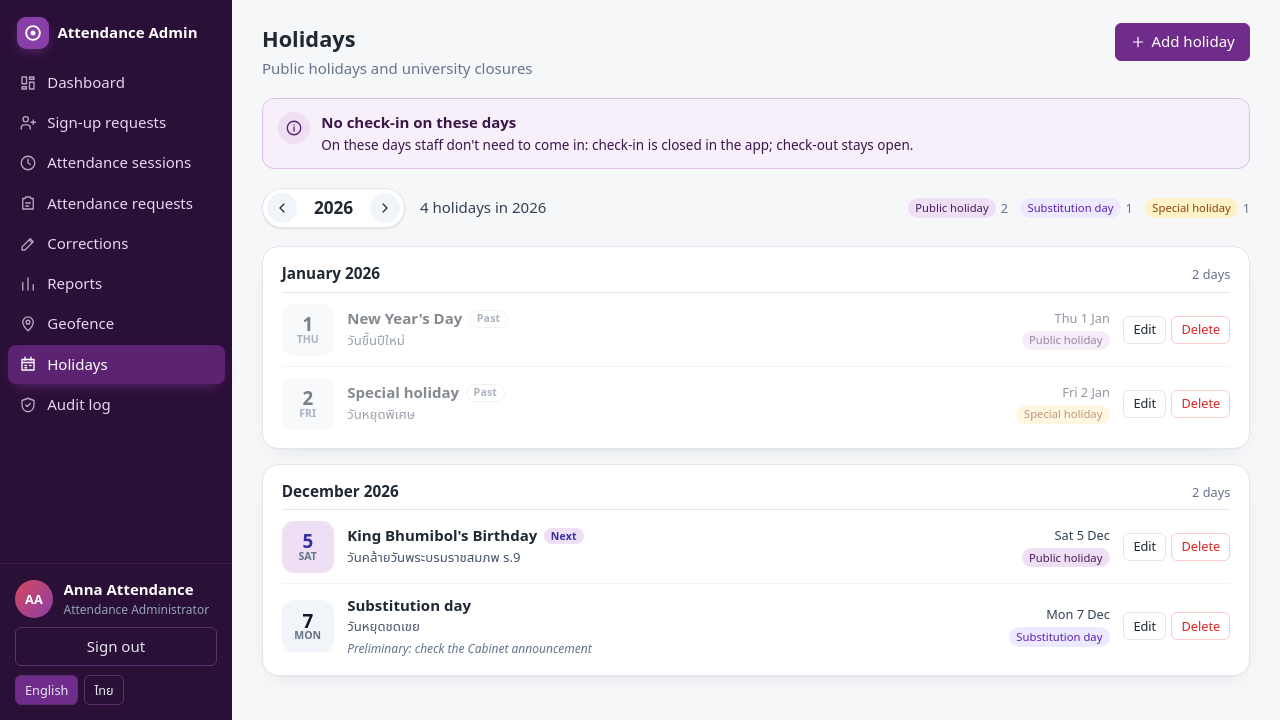
Test: Holidays › edits a holiday with the same dialog
Click the button with aria-label "Edit Substitution day" at [1145, 626], box left=1123, top=612, right=1166, bottom=640
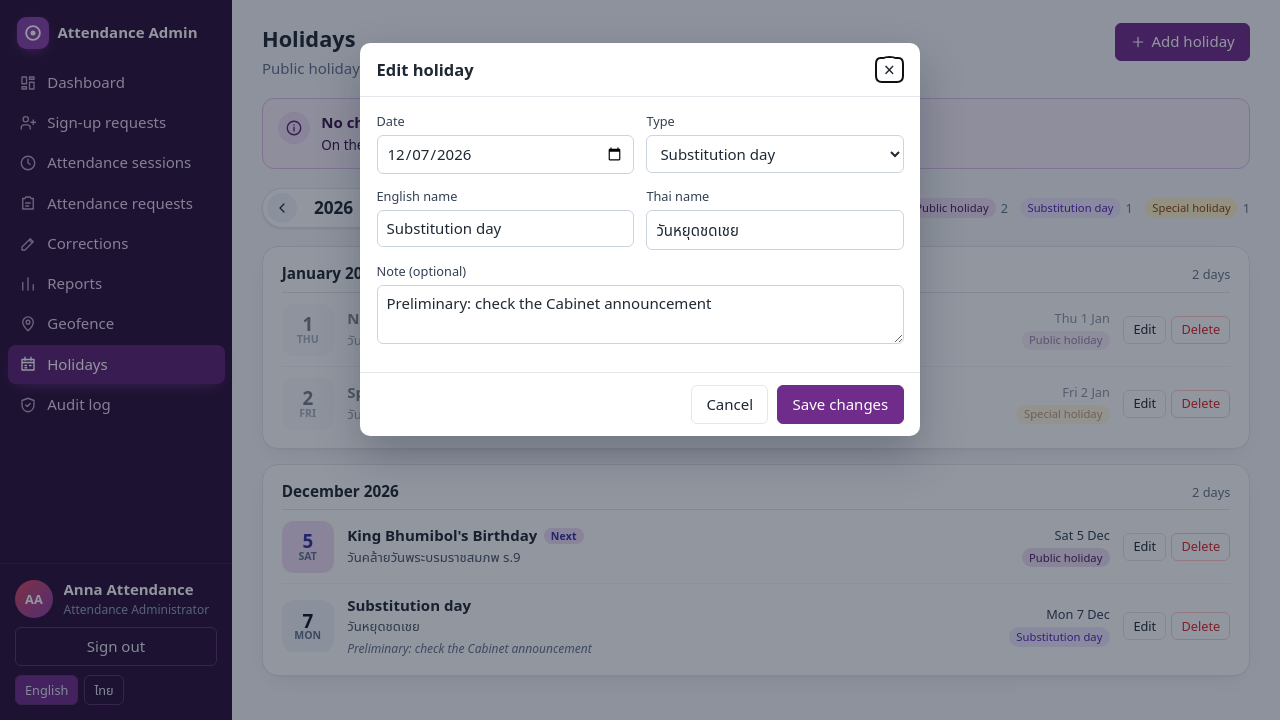
Replace the text in the field labelled "English name" with "Substitution for Father’s Day" at [505, 229], box left=376, top=210, right=634, bottom=248
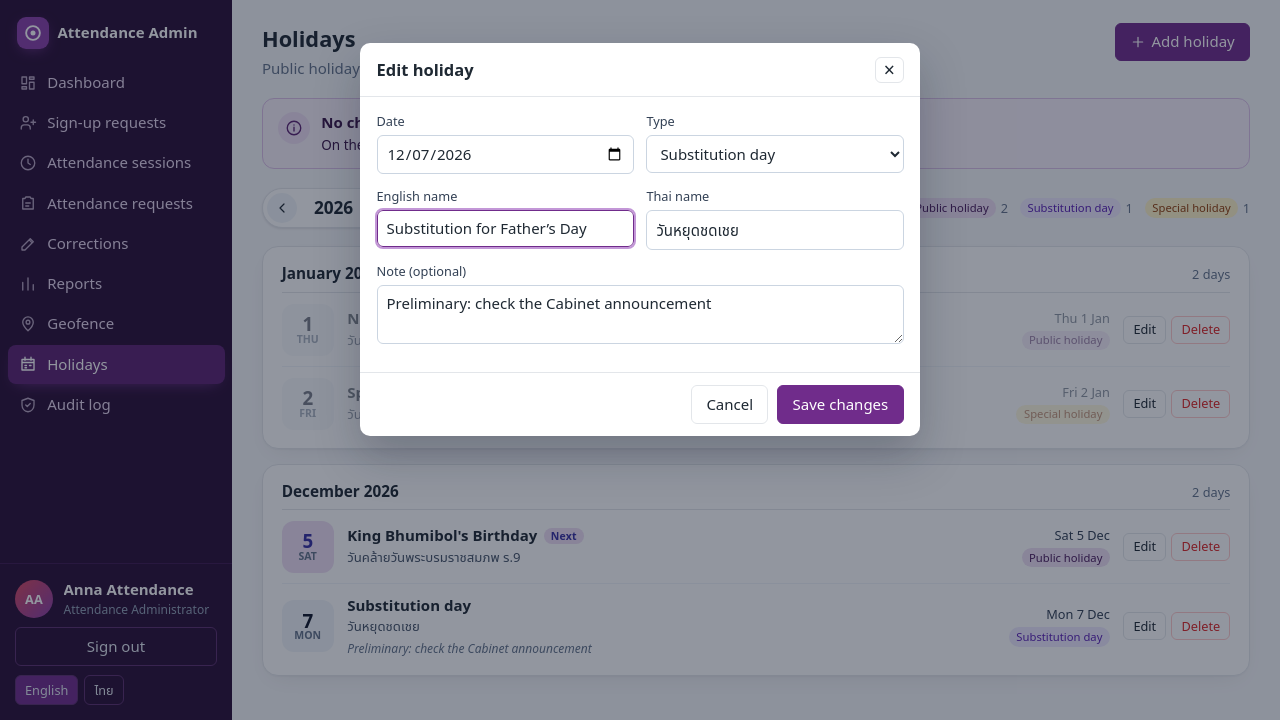
Clear the text box labelled "Note (optional)" at [640, 315], box left=376, top=285, right=904, bottom=344
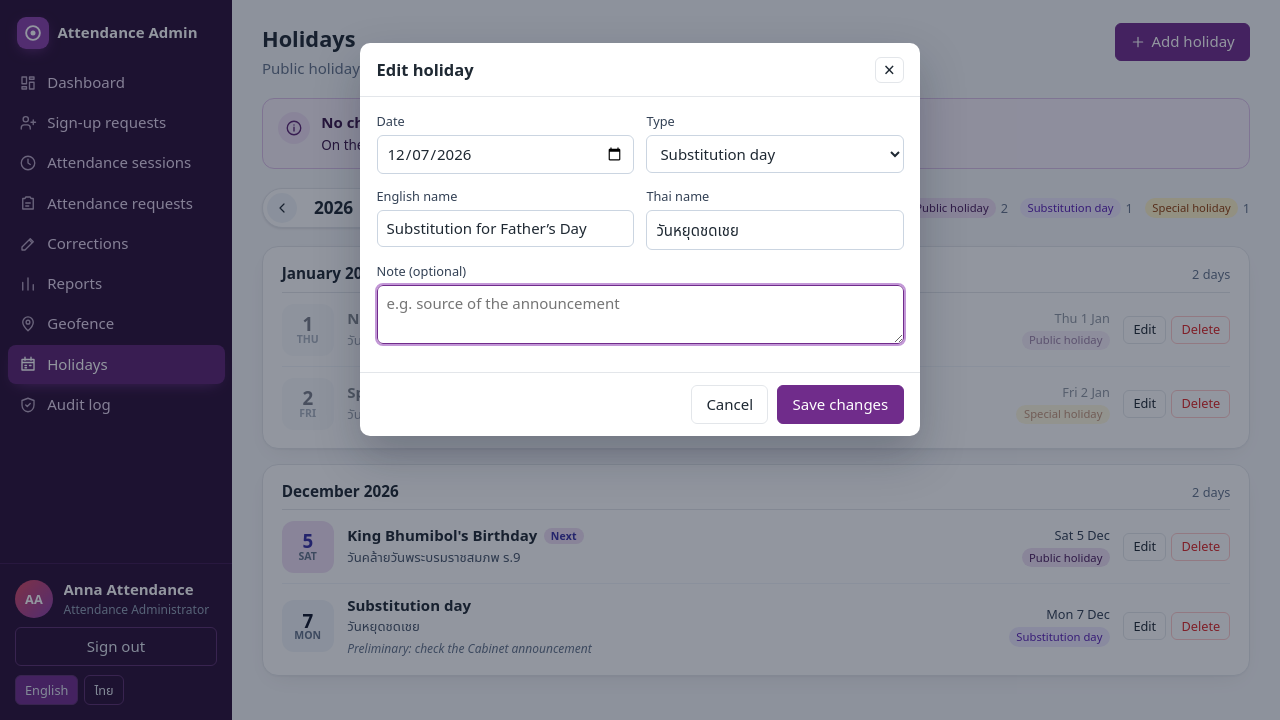
Click the button "Save changes" at [840, 404], box left=777, top=385, right=904, bottom=424
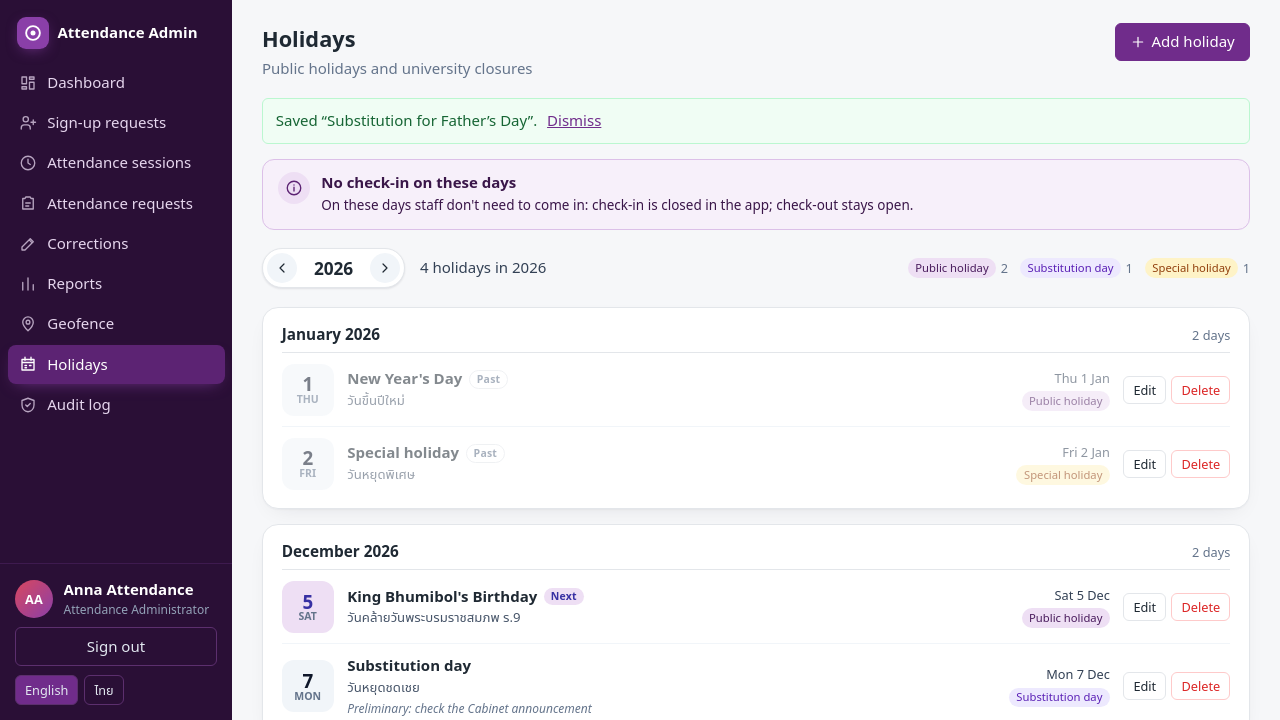
Result: the message shows "Saved “Substitution for Father’s Day”." at left=276, top=110, right=537, bottom=130
